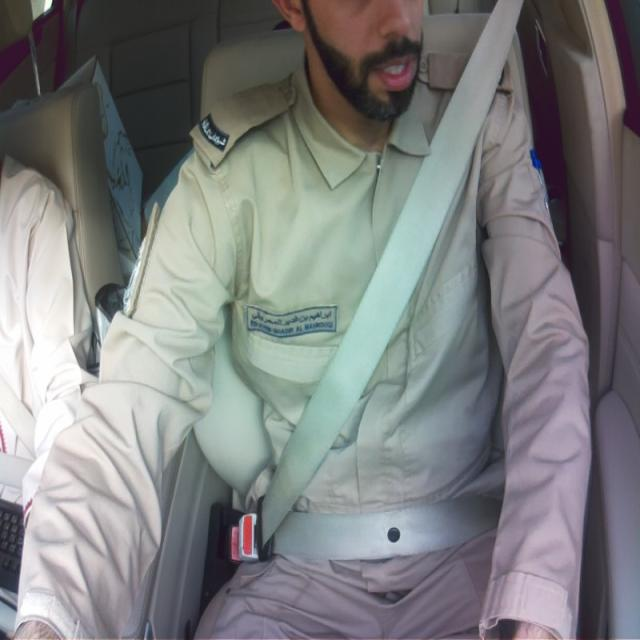seatbelt: (256, 0, 522, 560)
